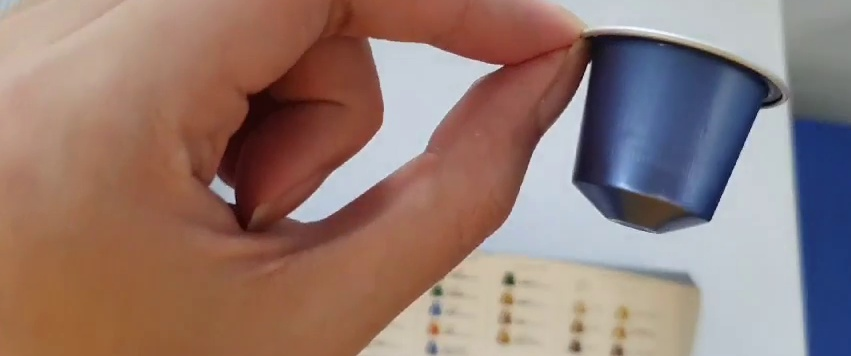capsule_7: (569, 26, 793, 238)
